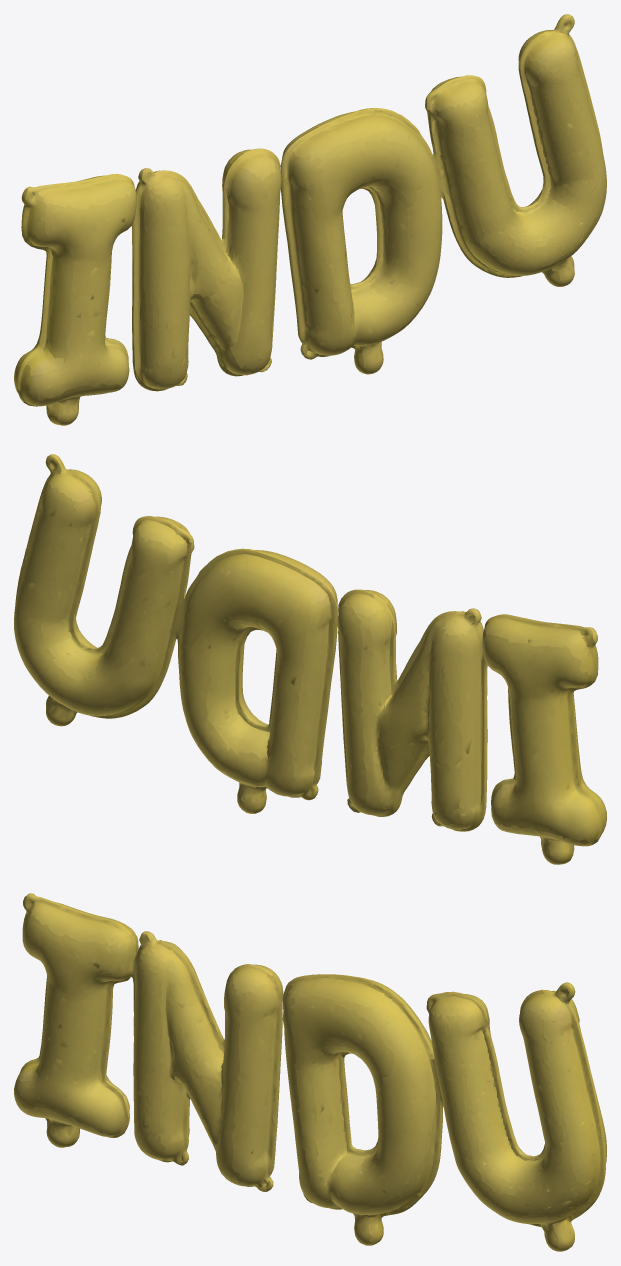
File: indu.glb
The picture shows the model from 3 angles, top to bottom: view 1: azimuth 30°, elevation 25°; view 2: azimuth 150°, elevation 25°; view 3: azimuth 330°, elevation 25°; orthographic projection.
Parts seen in each view (by area): view 1: textured_mesh; view 2: textured_mesh; view 3: textured_mesh.
Boxes of the visible parts, bbox=[...] form: textured_mesh: bbox=[14, 14, 606, 425]; textured_mesh: bbox=[14, 454, 606, 864]; textured_mesh: bbox=[14, 893, 606, 1251].
Size of the model in its own units: 1.99 by 1 by 0.2104.
1 material, 1 textured.
